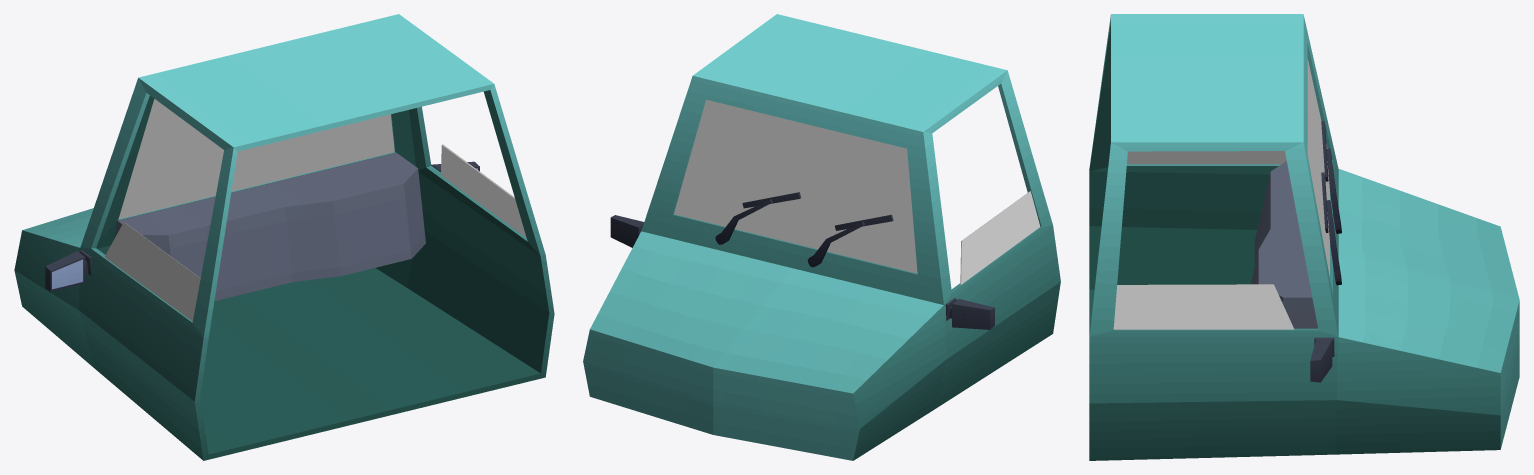
The model's file is car 2.fbx.
3 views of the same model, side by side, from view 1: azimuth 30°, elevation 25°; view 2: azimuth 150°, elevation 25°; view 3: azimuth 270°, elevation 25° (orthographic). The views are drawn at different scales.
Parts seen in each view (by area): view 1: Plane.001; view 2: Plane.001; view 3: Plane.001.
Boxes of the visible parts, x1,y1,x2,y2 form: Plane.001: (14,14,554,460); Plane.001: (583,14,1060,460); Plane.001: (1089,14,1519,460).
Bounding box in the file's own units: 251 × 165 × 216.
